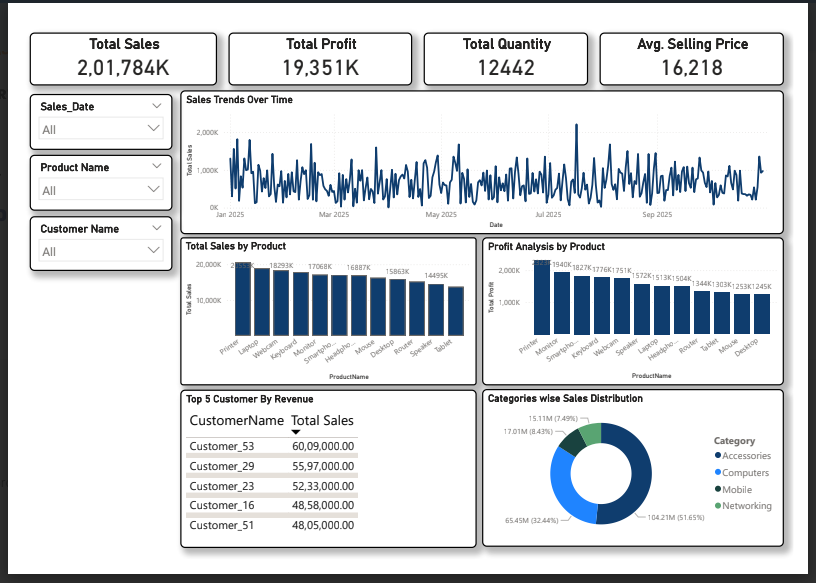

The dashboard page shown, as its layout file describes it:
{"tool":"powerbi","page":{"name":"Page 1","canvas":[1280,900],"ordinal":0},"visuals":[{"type":"card","title":"Total Sales","fields":{"Values":["Measure (4).Total Sales"]},"box":[12.1,25.3,311.3,88.1],"z":0},{"type":"card","title":"Total Profit","fields":{"Values":["Measure (4).Total Profit"]},"box":[342.2,25.3,305.2,88.1],"z":1000},{"type":"card","title":"Total Quantity","fields":{"Values":["Measure (4).Total Quanity"]},"box":[666.4,25.3,272.7,88.1],"z":2000},{"type":"card","title":"Avg. Selling Price","fields":{"Values":["Measure (4).Avg. Selling Price"]},"box":[957.9,25.3,306.4,88.1],"z":3000},{"type":"lineChart","title":"Sales Trends Over Time","fields":{"Category":["Sales.Date"],"Y":["Measure (4).Total Sales"]},"box":[261.8,120.6,1002.6,238.9],"z":4000},{"type":"slicer","fields":{"Values":["Sales.Sales_Date"]},"box":[12.1,126.7,236.8,93.5],"z":5000},{"type":"slicer","fields":{"Values":["Products.ProductName"]},"box":[12.1,227.7,236.8,93.5],"z":6000},{"type":"slicer","fields":{"Values":["Customers.CustomerName"]},"box":[12.1,330.3,236.8,90.5],"z":7000},{"type":"clusteredColumnChart","title":"Total Sales by Product","fields":{"Category":["Products.ProductName"],"Y":["Measure (4).Total Sales"]},"box":[262.4,364.9,491.6,245.8],"z":8000},{"type":"tableEx","title":"Top 5 Customer By Revenue","fields":{"Values":["Customers.CustomerName","Measure (4).Total Sales"]},"box":[262.4,618.3,491.6,262.4],"z":9000},{"type":"clusteredColumnChart","title":"Profit Analysis by Product","fields":{"Category":["Products.ProductName"],"Y":["Measure (4).Total Profit"]},"box":[763.1,364.9,500.7,245.8],"z":10000},{"type":"donutChart","title":"Categories wise Sales Distribution","fields":{"Category":["Products.Category"],"Y":["Measure (4).Total Sales"]},"box":[763.1,616.8,500.7,262.4],"z":11000}]}

Visuals, with their boxes in screenshot pixels (x1, y1, x2, y2), scaled from the page's 1280x900 canvas onto the 816x583 screenshot:
"Total Sales" card: BBox(8, 16, 206, 73)
"Total Profit" card: BBox(218, 16, 413, 73)
"Total Quantity" card: BBox(425, 16, 599, 73)
"Avg. Selling Price" card: BBox(611, 16, 806, 73)
"Sales Trends Over Time" lineChart: BBox(167, 78, 806, 233)
slicer - Sales.Sales_Date: BBox(8, 82, 159, 143)
slicer - Products.ProductName: BBox(8, 147, 159, 208)
slicer - Customers.CustomerName: BBox(8, 214, 159, 273)
"Total Sales by Product" clusteredColumnChart: BBox(167, 236, 481, 396)
"Top 5 Customer By Revenue" tableEx: BBox(167, 401, 481, 570)
"Profit Analysis by Product" clusteredColumnChart: BBox(486, 236, 806, 396)
"Categories wise Sales Distribution" donutChart: BBox(486, 400, 806, 570)
